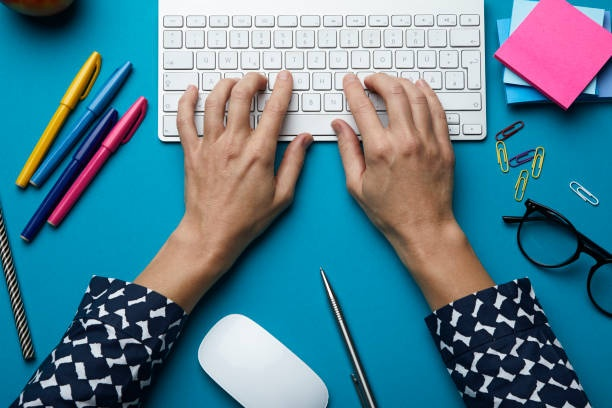keyboard: (156, 1, 486, 142)
